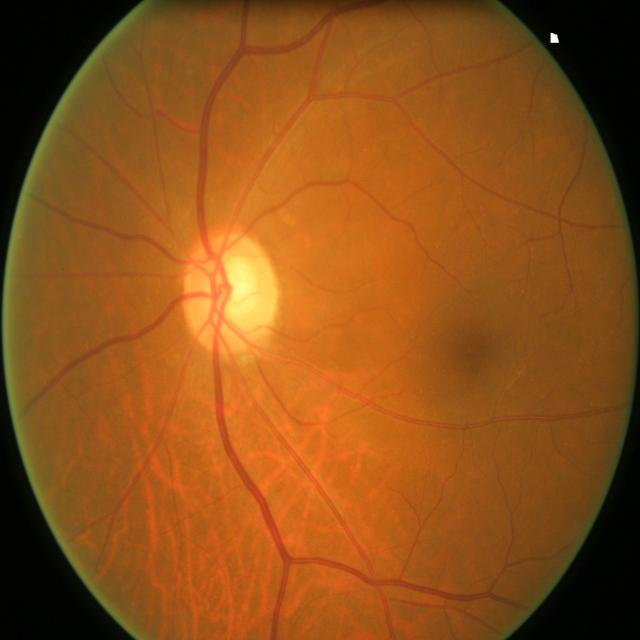OC: (204, 252, 262, 326)
OD: (180, 230, 278, 350)
